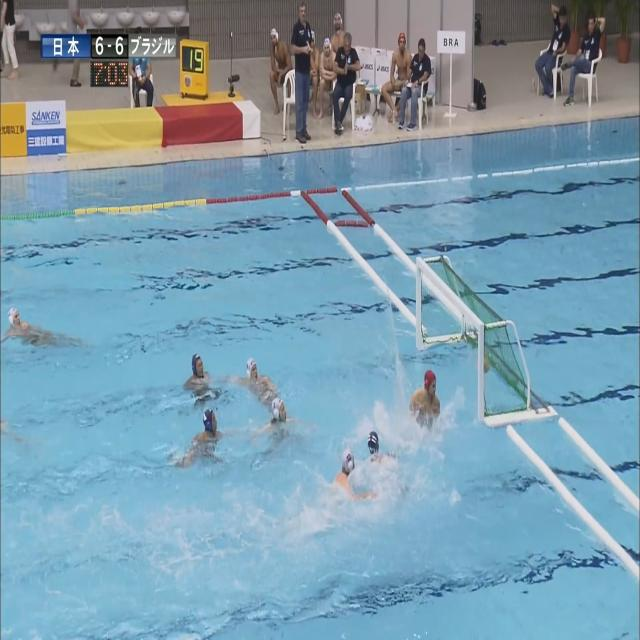ball: (484, 358, 489, 374)
